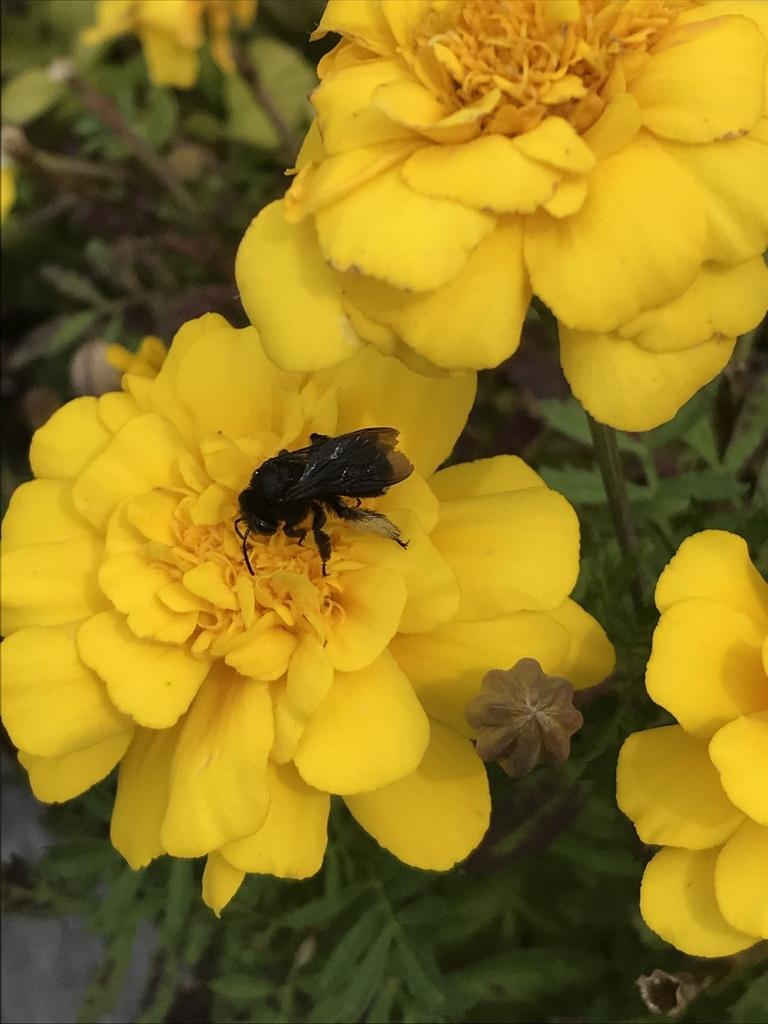not_bumblebee: (233, 424, 416, 584)
